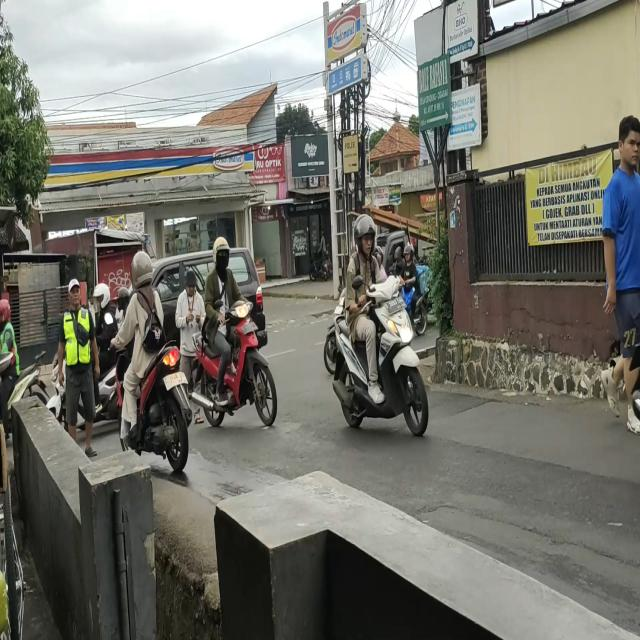helmet: (129, 249, 158, 288), (351, 216, 377, 257), (92, 281, 112, 310), (213, 238, 230, 270), (0, 298, 13, 330), (402, 245, 415, 263)
